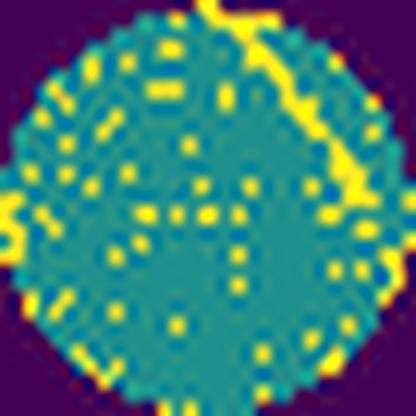Scratch: (193, 0, 381, 226)
